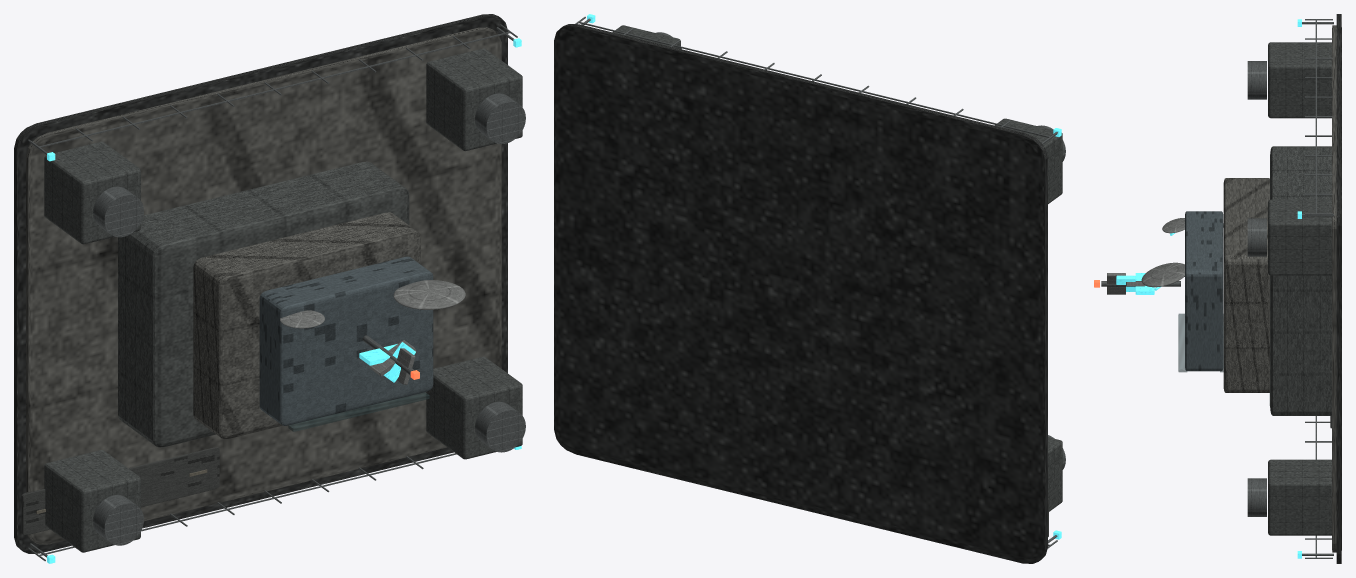
Rendered from b-01-command-center-lod0.glb.
3 renders of one model, left to right at view 1: azimuth 30°, elevation 25°; view 2: azimuth 150°, elevation 25°; view 3: azimuth 270°, elevation 25°, orthographic. The views are drawn at different scales.
Parts seen in each view (by area): view 1: foundation_inner_pad, command_block_lower, command_block_upper, command_block_middle, foundation, corner_bastion_7_5.4, corner_bastion_-7_-5.4, corner_bastion_-7_5.4, corner_bastion_7_-5.4, entry_road, watch_cupola_7_-5.4, watch_cupola_-7_5.4 (+5 smaller); view 2: foundation, corner_bastion_-7_5.4, corner_bastion_-7_-5.4; view 3: command_block_lower, command_block_middle, command_block_upper, corner_bastion_7_-5.4, corner_bastion_7_5.4, corner_bastion_-7_5.4, foundation, foundation_inner_pad, hq_dish_large_dish, watch_cupola_-7_5.4, watch_cupola_7_-5.4, watch_cupola_7_5.4 (+1 smaller).
Boxes of the visible parts, x1,y1,x2,y2 form: foundation_inner_pad: (26, 27, 501, 544); command_block_lower: (118, 161, 409, 447); command_block_upper: (259, 256, 433, 425); command_block_middle: (193, 212, 420, 439); foundation: (14, 14, 507, 553); corner_bastion_7_5.4: (426, 48, 522, 151); corner_bastion_-7_-5.4: (44, 450, 140, 552); corner_bastion_-7_5.4: (44, 141, 140, 244); corner_bastion_7_-5.4: (426, 356, 522, 459); entry_road: (21, 447, 219, 534); watch_cupola_7_-5.4: (475, 401, 525, 452); watch_cupola_-7_5.4: (93, 186, 143, 237); foundation: (554, 24, 1047, 563); corner_bastion_-7_5.4: (994, 118, 1062, 203); corner_bastion_-7_-5.4: (1048, 437, 1062, 511); command_block_lower: (1270, 146, 1331, 415); command_block_middle: (1223, 178, 1269, 392); command_block_upper: (1185, 211, 1223, 371); corner_bastion_7_-5.4: (1268, 459, 1331, 535); corner_bastion_7_5.4: (1268, 199, 1331, 275); corner_bastion_-7_5.4: (1268, 42, 1331, 118); foundation: (1336, 14, 1341, 563); foundation_inner_pad: (1332, 25, 1336, 552); hq_dish_large_dish: (1141, 262, 1184, 287); watch_cupola_-7_5.4: (1247, 61, 1266, 99); watch_cupola_7_-5.4: (1247, 478, 1266, 516); watch_cupola_7_5.4: (1247, 218, 1266, 256).
Size of what is drawn, in the model's own units: 18 by 15 by 9.32.
11 materials, 11 textured.
